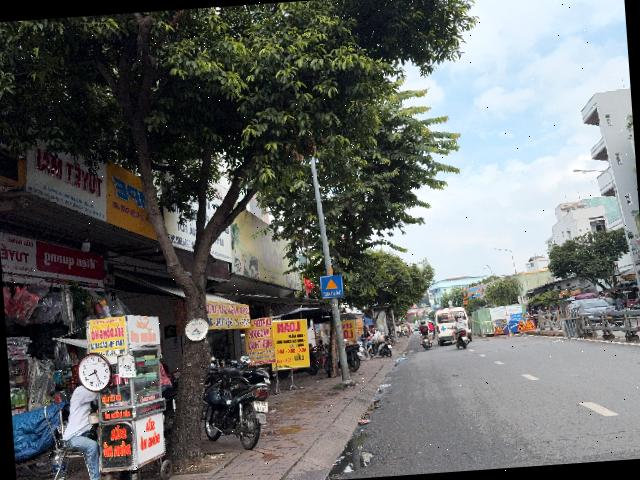khu-vuc-cho-phia-truoc: (320, 274, 343, 298)
